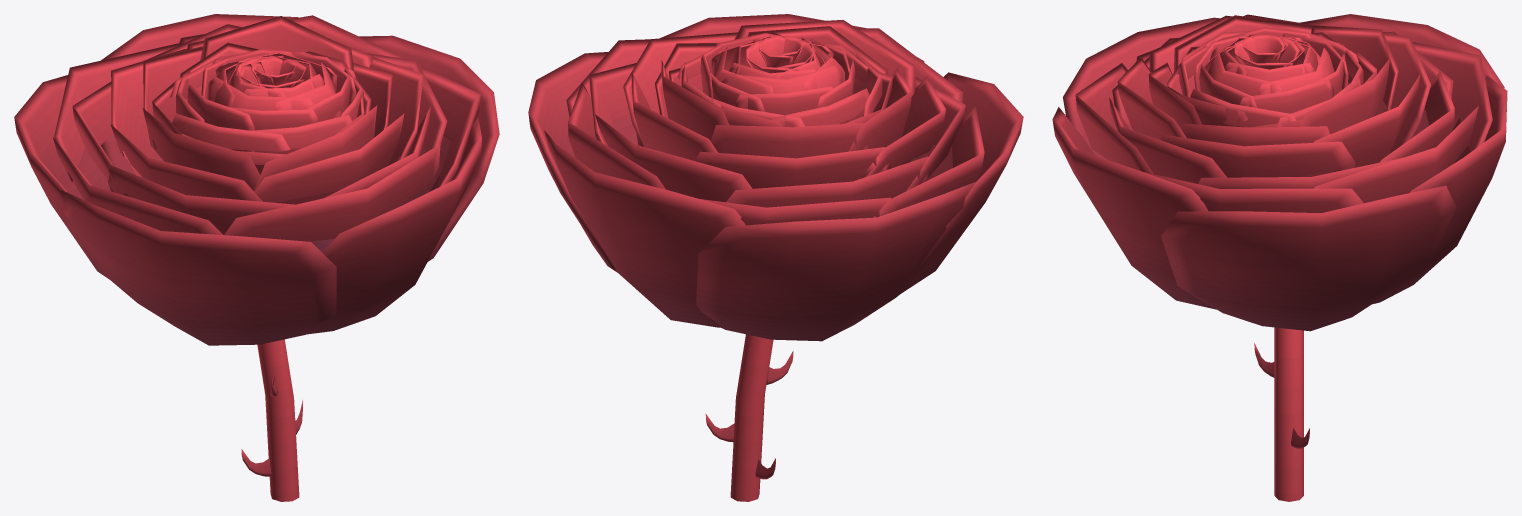
The model's file is Rose_Thorn_Source_1_Adjusted.fbx.
3 renders of one model, left to right at view 1: azimuth 30°, elevation 25°; view 2: azimuth 150°, elevation 25°; view 3: azimuth 270°, elevation 25°, orthographic.
Visible parts, largest first — view 1: Rose_Thorn_Source_1_Adjusted; view 2: Rose_Thorn_Source_1_Adjusted; view 3: Rose_Thorn_Source_1_Adjusted.
Boxes of the visible parts, box(x1,y1,x2,y2) form: Rose_Thorn_Source_1_Adjusted: box(14, 14, 499, 501); Rose_Thorn_Source_1_Adjusted: box(528, 14, 1023, 501); Rose_Thorn_Source_1_Adjusted: box(1052, 14, 1507, 501).
Size of the model in its own units: 7.87 by 8.01 by 7.49.
